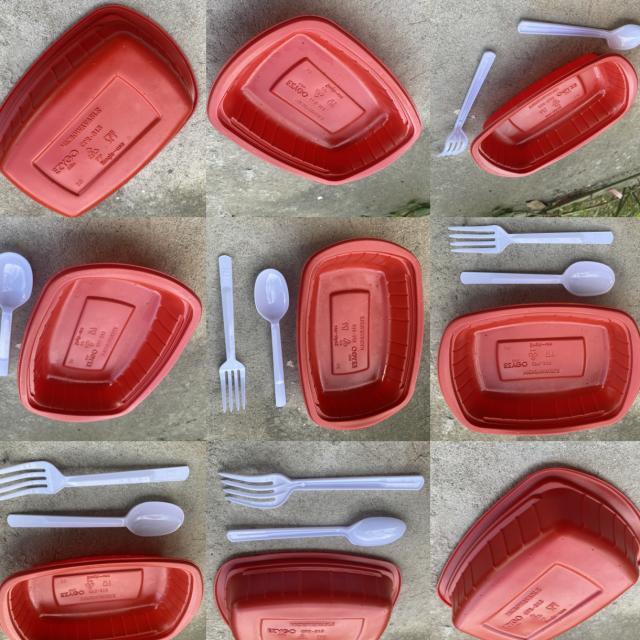plastik: (0, 6, 197, 216), (208, 15, 422, 185), (438, 468, 640, 640), (18, 264, 201, 422), (438, 303, 640, 435), (297, 239, 423, 429), (470, 54, 637, 177), (0, 555, 203, 640), (214, 553, 401, 640), (0, 460, 190, 500), (220, 472, 424, 509), (7, 502, 184, 537), (438, 51, 495, 157), (460, 261, 615, 296), (228, 517, 406, 546), (254, 269, 289, 407), (448, 225, 613, 253), (218, 256, 246, 412), (0, 252, 33, 376), (518, 21, 640, 50)
